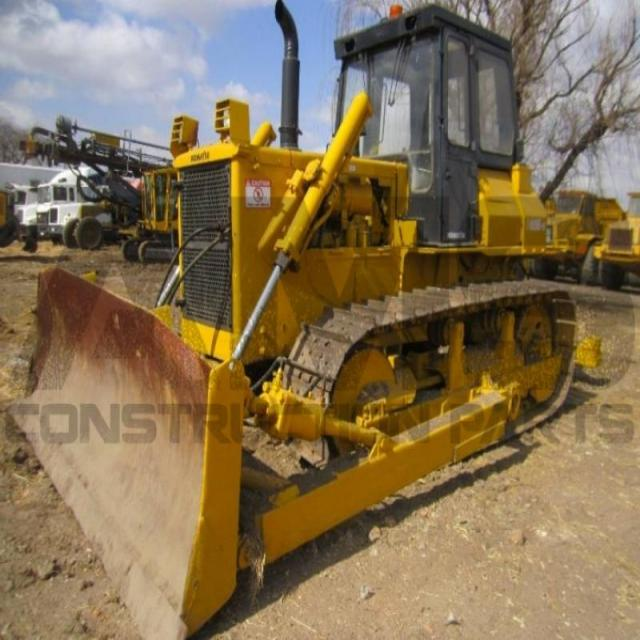Bulldozer: (9, 0, 584, 635)
